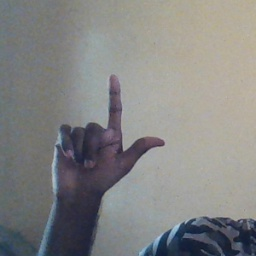L: (51, 72, 168, 196)
